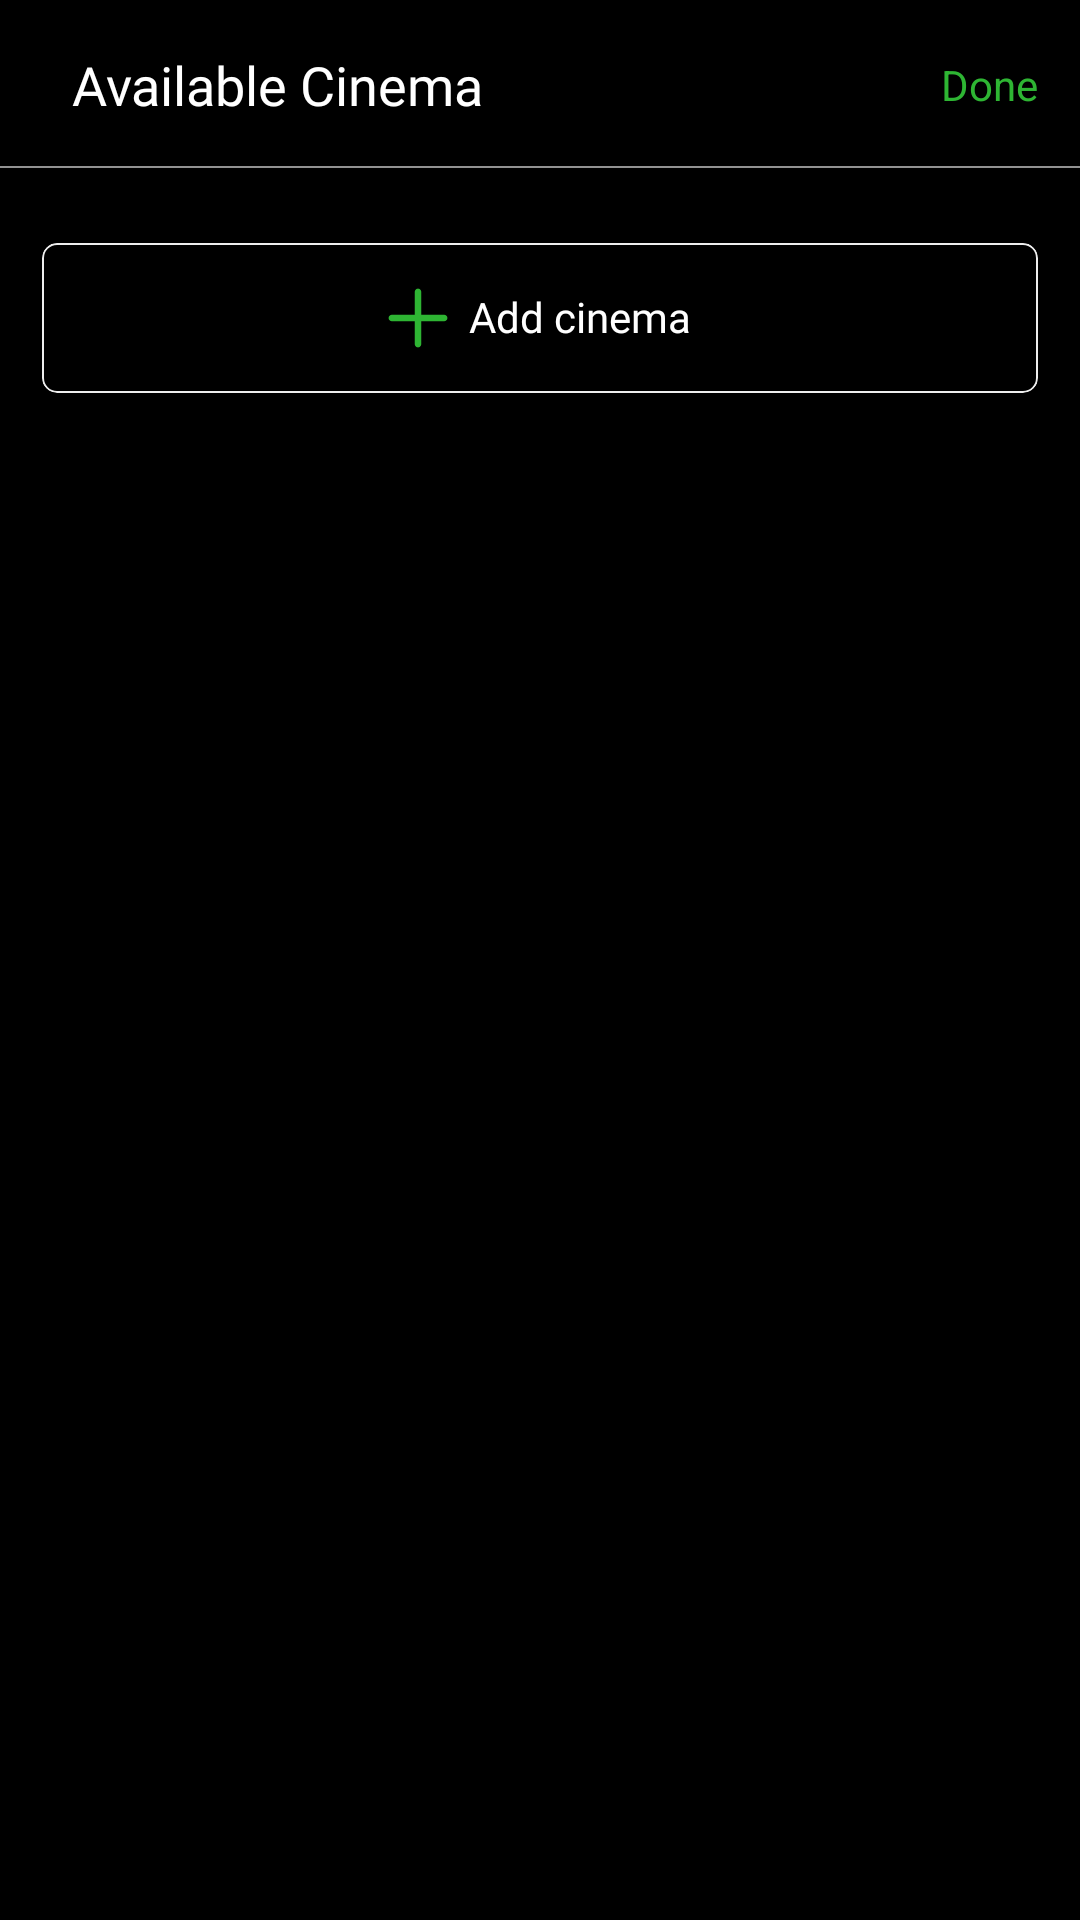

Icons on this 1080×1920 Android screen, each with the point to tap as [x,y]:
add plus: [418,318]
